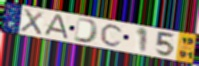1: (134, 27, 148, 54)
5: (154, 30, 177, 58)
A: (41, 13, 71, 41)
C: (99, 23, 125, 48)
D: (73, 16, 100, 45)
X: (19, 8, 45, 37)
